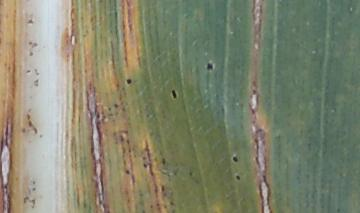tarspot: (142, 138, 154, 161), (27, 119, 38, 136), (142, 161, 153, 177), (27, 39, 38, 50), (32, 78, 40, 89), (170, 88, 177, 99), (160, 156, 167, 167), (118, 133, 125, 144), (167, 200, 178, 207), (231, 155, 240, 163), (27, 50, 35, 59), (206, 61, 213, 71), (94, 112, 101, 122), (125, 78, 133, 86), (187, 169, 194, 178), (25, 18, 34, 25), (123, 169, 131, 176), (112, 102, 120, 109), (20, 126, 26, 135), (144, 112, 151, 119), (160, 184, 165, 193), (235, 174, 241, 181), (24, 69, 31, 75), (141, 155, 147, 161), (107, 106, 112, 113), (97, 1, 103, 4)
